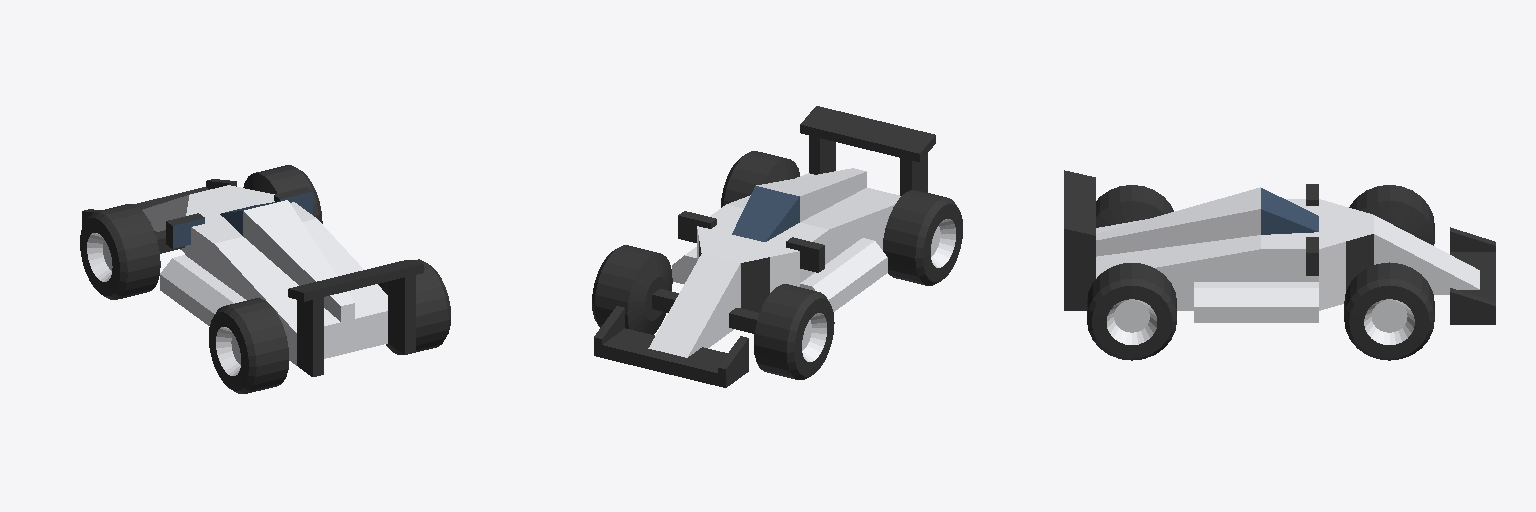
Rendered from raceCarWhite.obj.
The picture shows the model from 3 angles: view 1: azimuth 30°, elevation 25°; view 2: azimuth 150°, elevation 25°; view 3: azimuth 270°, elevation 25°; orthographic projection.
Parts seen in each view (by area): view 1: body, wheelFrontLeft, wheelBackLeft, wheelBackRight, wheelFrontRight; view 2: body, wheelFrontLeft, wheelBackLeft, wheelFrontRight, wheelBackRight; view 3: body, wheelFrontRight, wheelBackRight, wheelFrontLeft, wheelBackLeft.
Part boxes in pixels (x1,y1,x2,y2): body: (82, 179, 423, 376); wheelFrontLeft: (80, 204, 160, 299); wheelBackLeft: (209, 298, 288, 393); wheelBackRight: (378, 259, 450, 354); wheelFrontRight: (243, 165, 322, 223); body: (594, 106, 935, 387); wheelFrontLeft: (754, 284, 834, 379); wheelBackLeft: (883, 190, 962, 285); wheelFrontRight: (592, 245, 672, 334); wheelBackRight: (721, 151, 799, 207); body: (1064, 170, 1495, 324); wheelFrontRight: (1344, 262, 1434, 360); wheelBackRight: (1087, 263, 1176, 360); wheelFrontLeft: (1349, 185, 1434, 245); wheelBackLeft: (1096, 185, 1173, 227).
Size of the model in its own units: 0.7288 by 0.397 by 1.35.